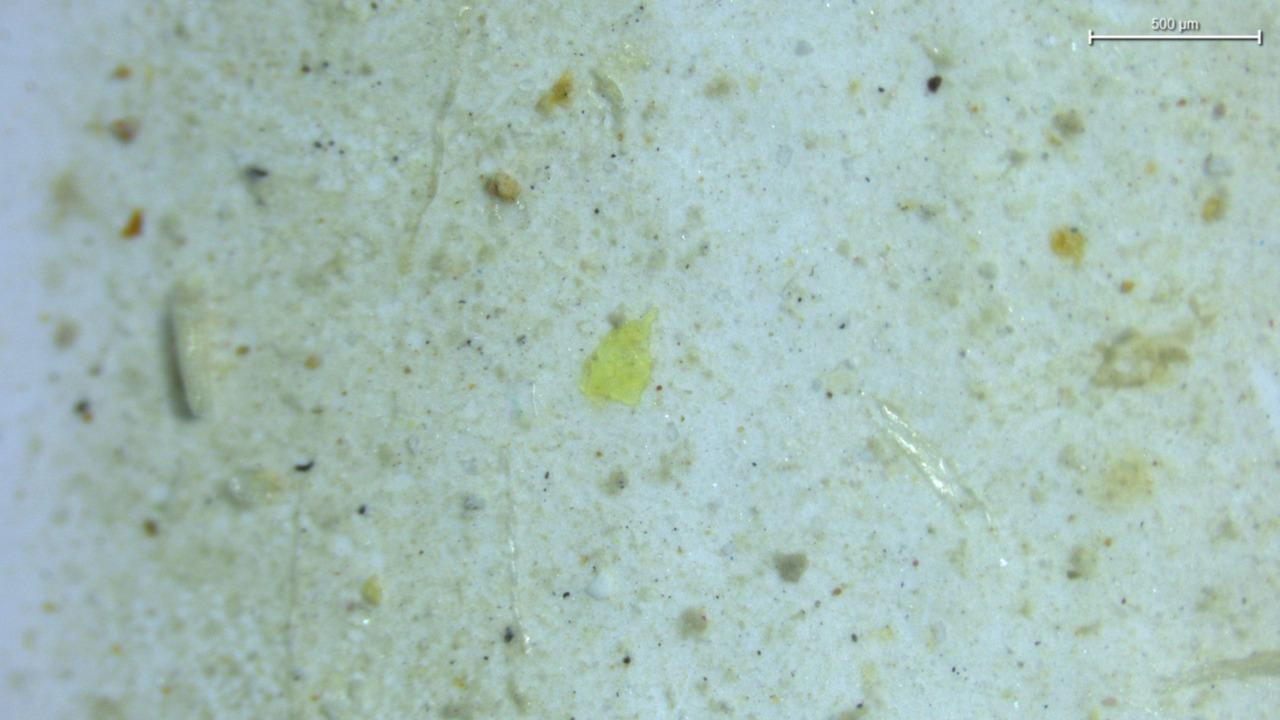microplastic_fragment: (580, 310, 657, 406)
